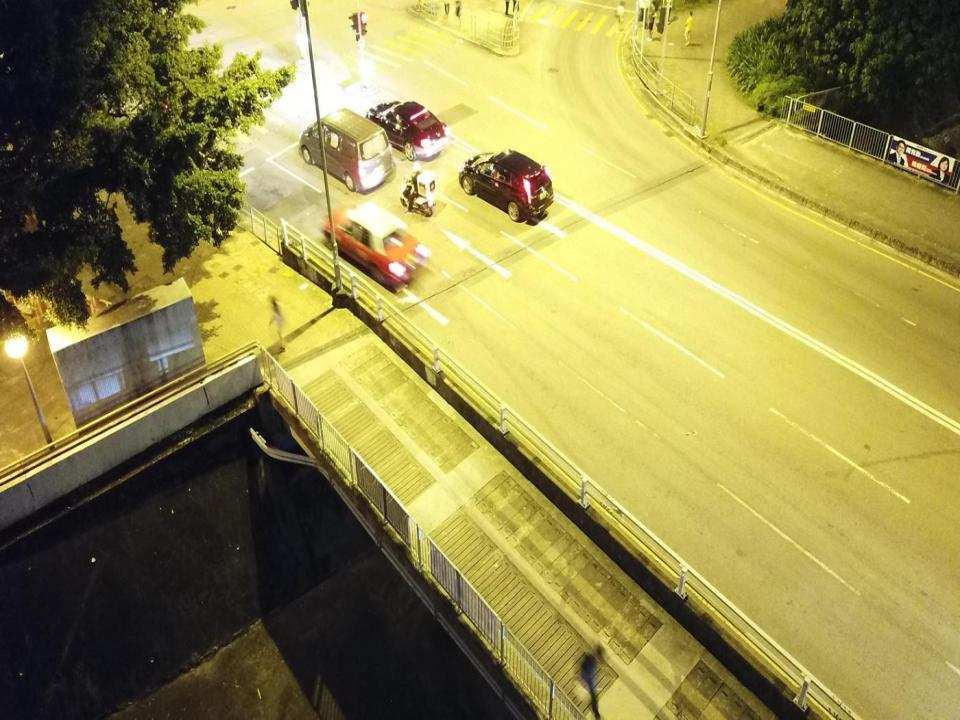car: (321, 198, 428, 291), (458, 148, 555, 222), (365, 100, 452, 160)
van: (299, 108, 394, 194)
